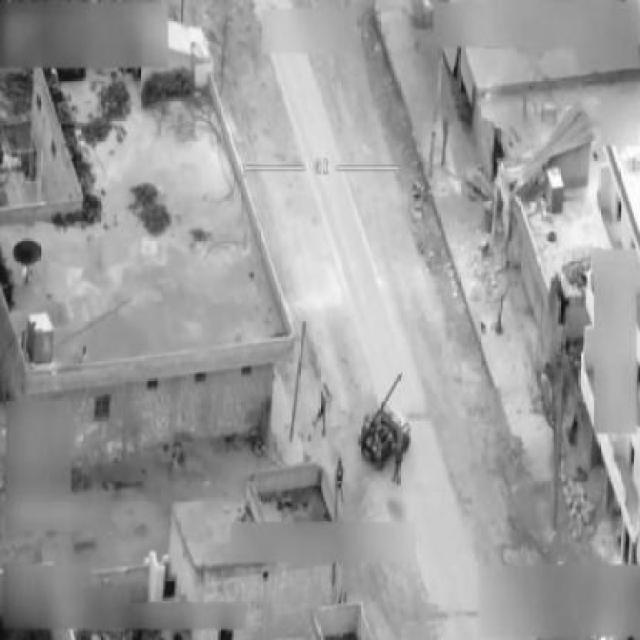Person: (312, 389, 333, 436), (391, 443, 408, 485)
Vehicle: (358, 401, 413, 472)
